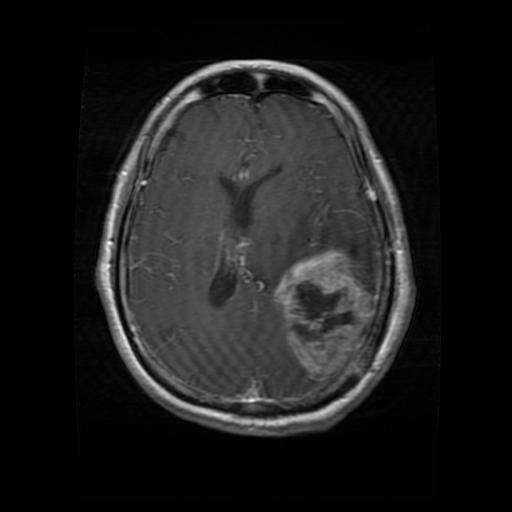Gliomia_tumour: (272, 243, 375, 377)
